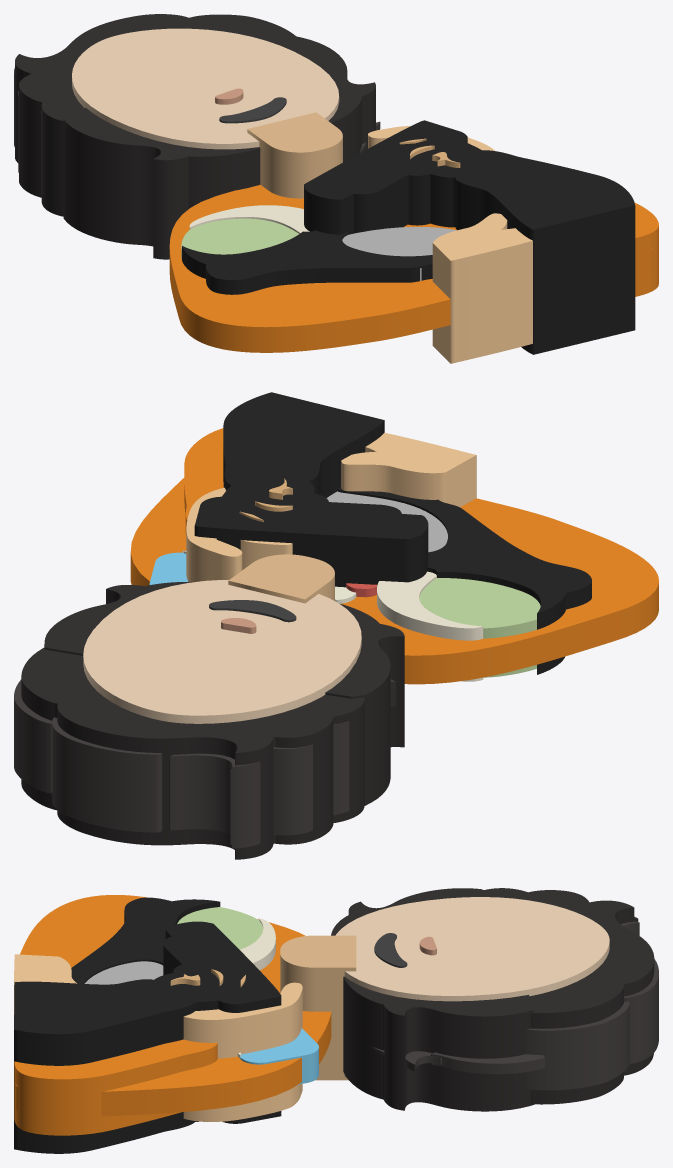
Rendered from emoji_u1f9d1_1f3fb_200d_1f37c.glb.
3 views of the same model, one above another, from view 1: azimuth 30°, elevation 25°; view 2: azimuth 150°, elevation 25°; view 3: azimuth 270°, elevation 25° (orthographic). The views are drawn at different scales.
Parts seen in each view (by area): view 1: emoji_u1f9d1_1f3fb_200d_1f37c; view 2: emoji_u1f9d1_1f3fb_200d_1f37c; view 3: emoji_u1f9d1_1f3fb_200d_1f37c.
Boxes of the visible parts, bbox=[...] form: emoji_u1f9d1_1f3fb_200d_1f37c: bbox=[14, 14, 658, 363]; emoji_u1f9d1_1f3fb_200d_1f37c: bbox=[14, 392, 658, 859]; emoji_u1f9d1_1f3fb_200d_1f37c: bbox=[14, 888, 658, 1153].
Size of the model in its own units: 0.0244 by 0.0074 by 0.0332.
